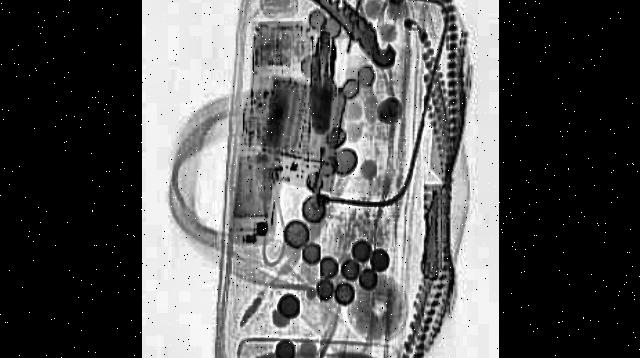Knife: (295, 0, 398, 74)
